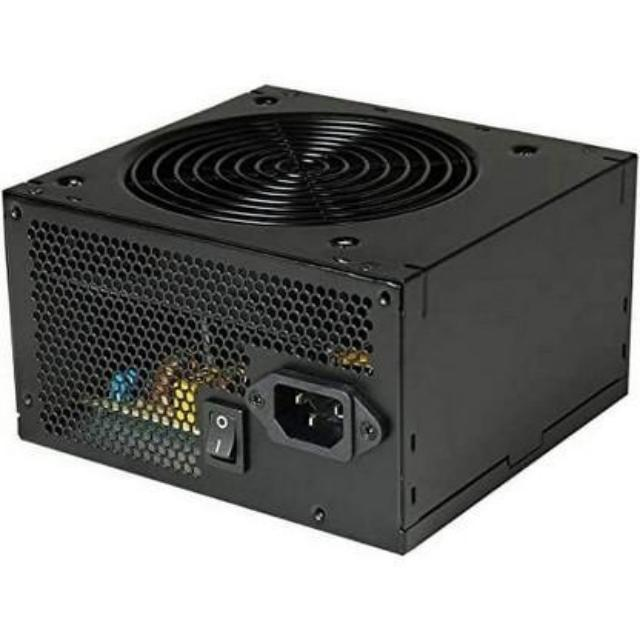PSU: (0, 70, 640, 556)
